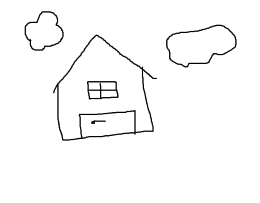closed_window: (86, 80, 119, 98)
clouds: (164, 23, 238, 67), (25, 10, 64, 51)
door: (76, 107, 136, 142)
single_line_roof: (53, 33, 157, 93)
wall: (52, 70, 154, 141)
